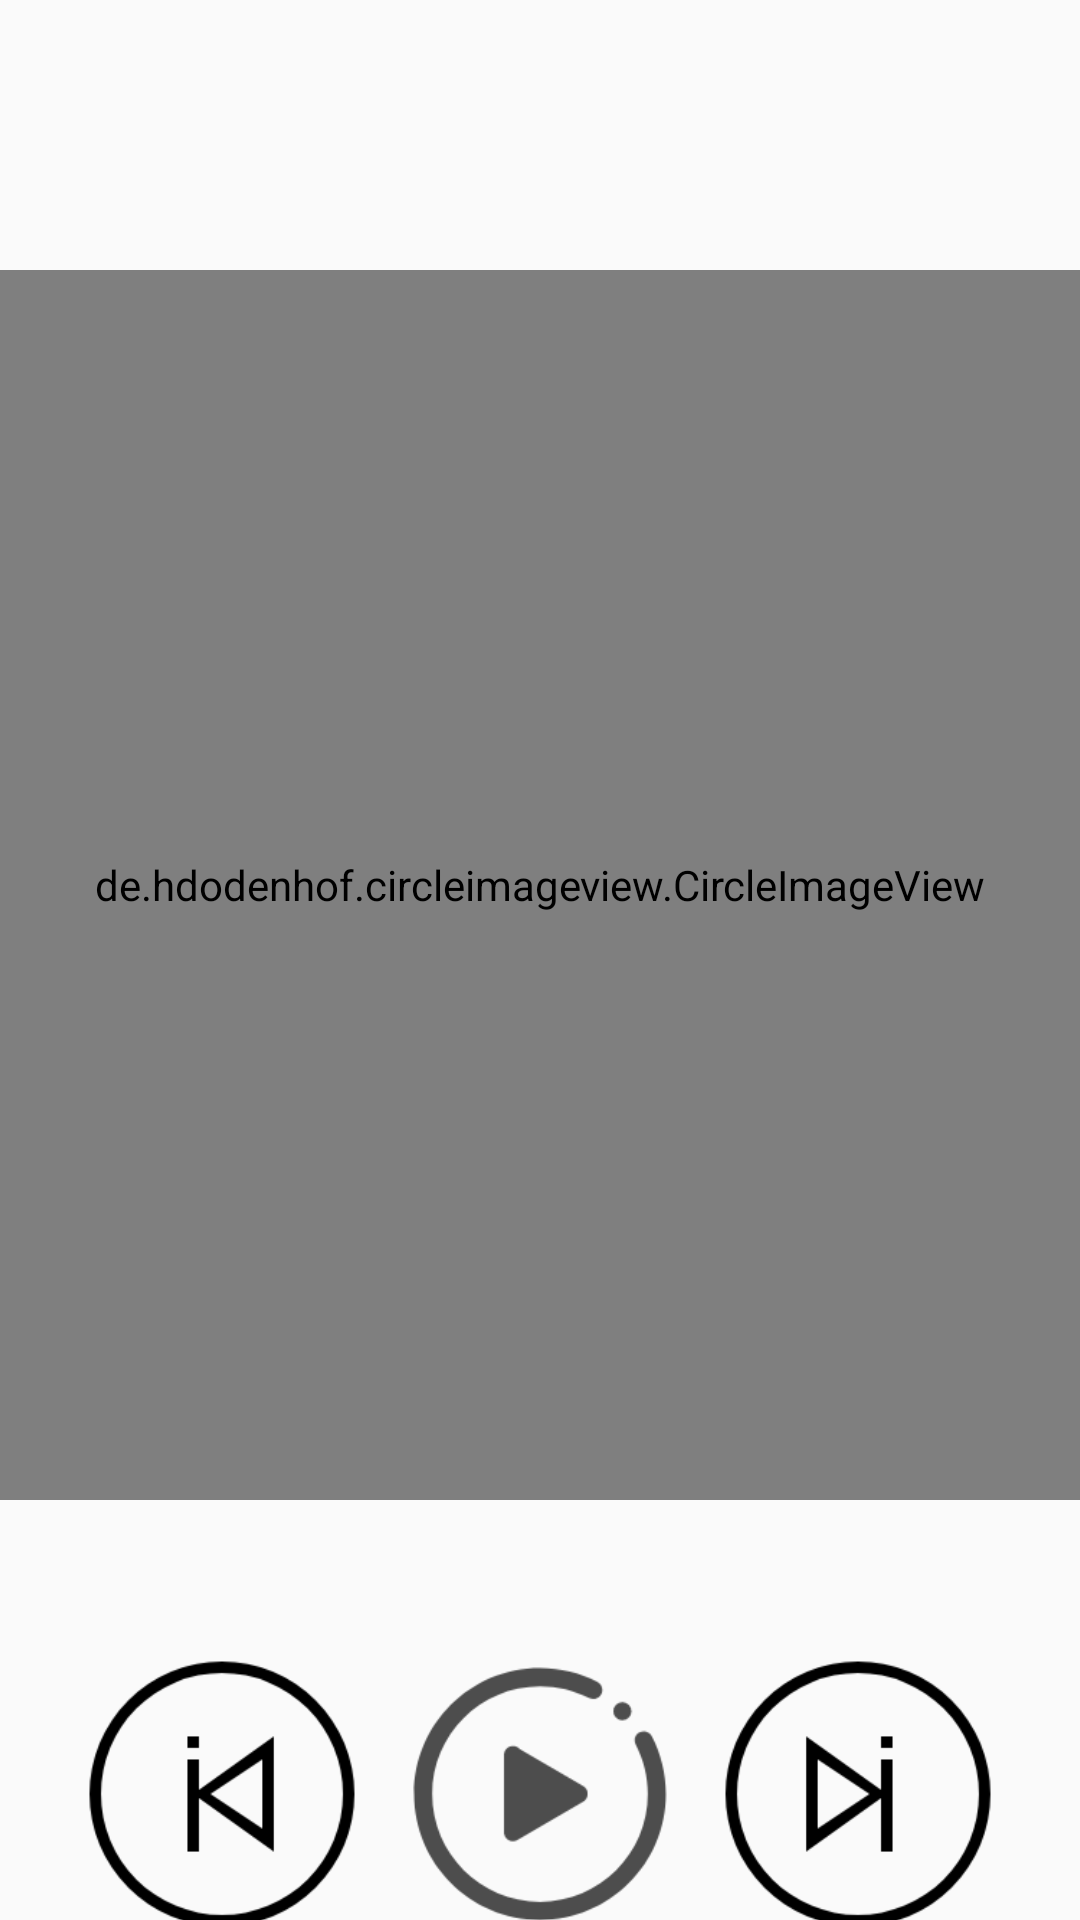

Where to tap for icons on this 1080×1920 app screen, as (x,y):
after: (858,1790)
before: (222,1790)
play: (540,1793)
